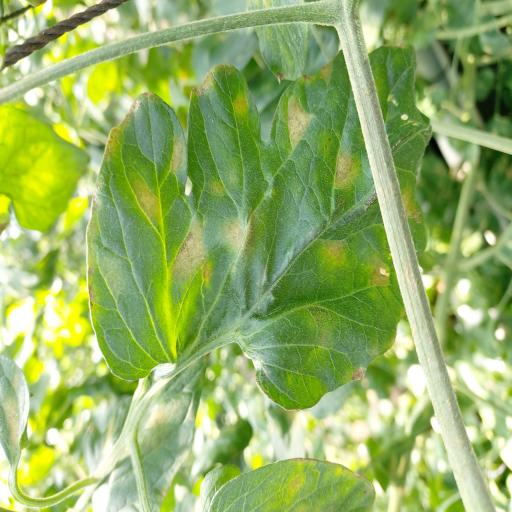disease_tomato: (88, 42, 430, 410)
